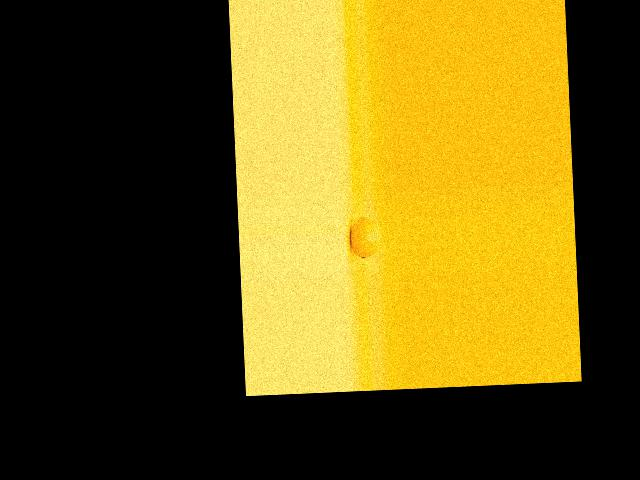lemon: (350, 208, 383, 263)
